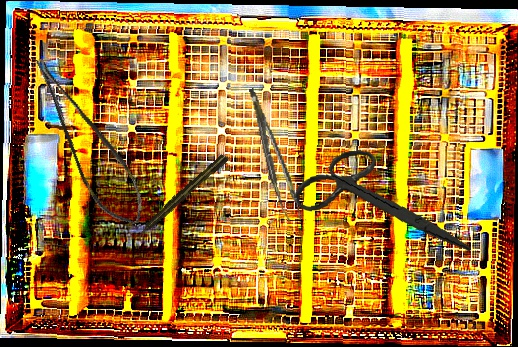Handpiece: (132, 151, 231, 242)
Iris Scissors: (290, 138, 472, 271)
Micro Scissor: (28, 42, 154, 237)
Tissue Forceps: (248, 84, 302, 224)
